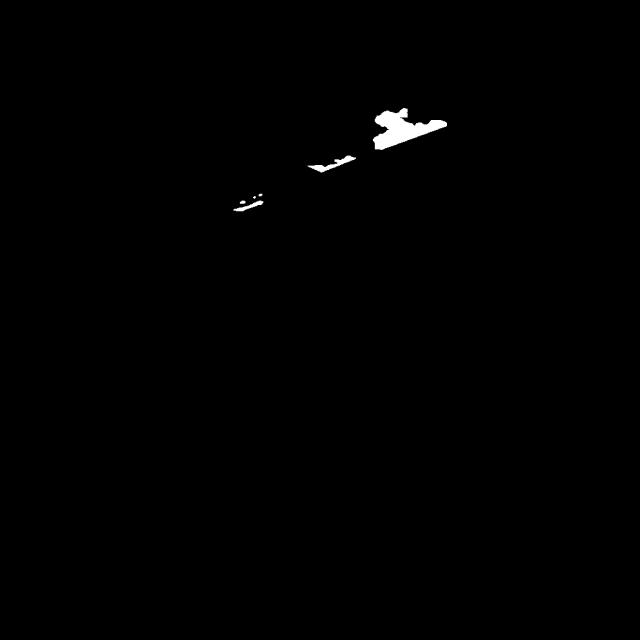fire: (239, 106, 520, 227)
